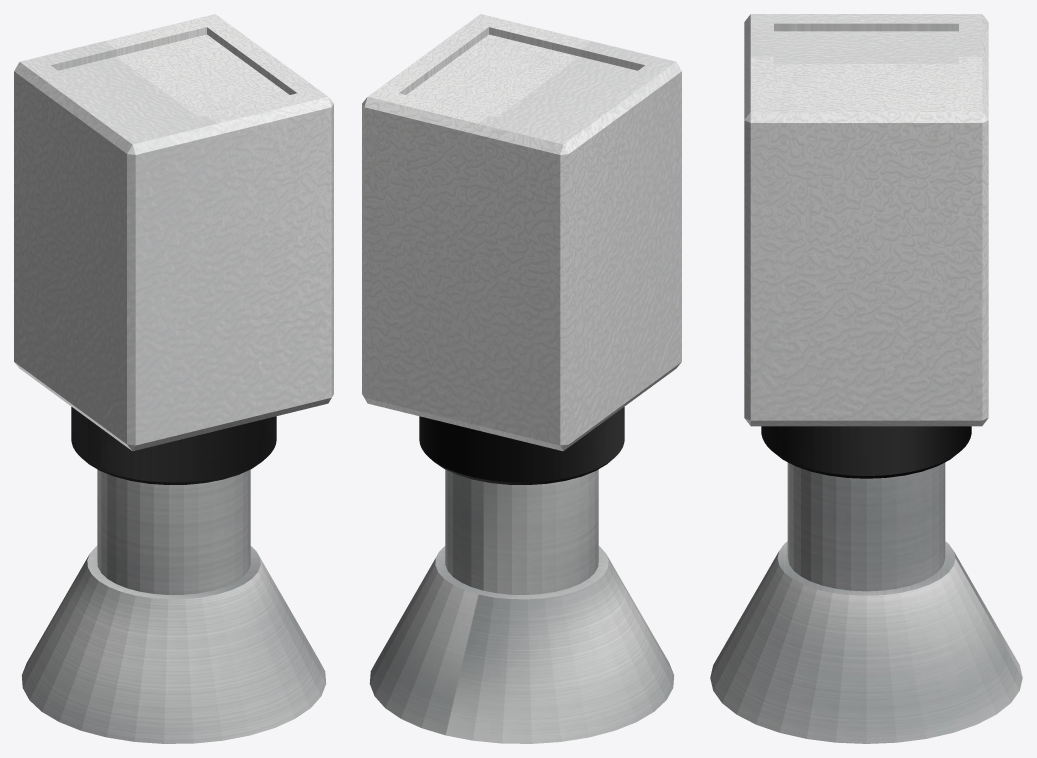
Rendered from Propulsor.fbx.
The picture shows the model from 3 angles, left to right: view 1: azimuth 30°, elevation 25°; view 2: azimuth 150°, elevation 25°; view 3: azimuth 270°, elevation 25°; orthographic projection. The views are drawn at different scales.
Parts seen in each view (by area): view 1: Cube.001; view 2: Cube.001; view 3: Cube.001.
Boxes of the visible parts, x1,y1,x2,y2 form: Cube.001: (14, 14, 333, 743); Cube.001: (362, 14, 681, 743); Cube.001: (710, 14, 1022, 743).
Size of the model in its own units: 231 by 502 by 231.
4 materials, 4 textured.
